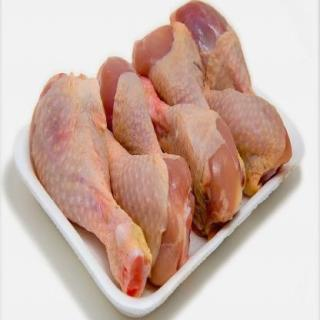Ayam: (32, 5, 293, 299), (32, 76, 147, 298), (138, 70, 241, 227), (136, 27, 209, 110)
